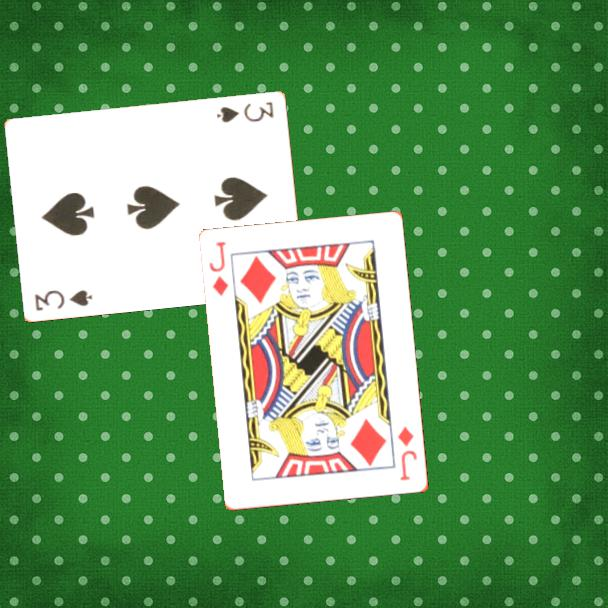d11: (395, 423, 420, 484), (206, 238, 231, 299)
s03: (31, 286, 95, 313), (214, 98, 277, 125)
